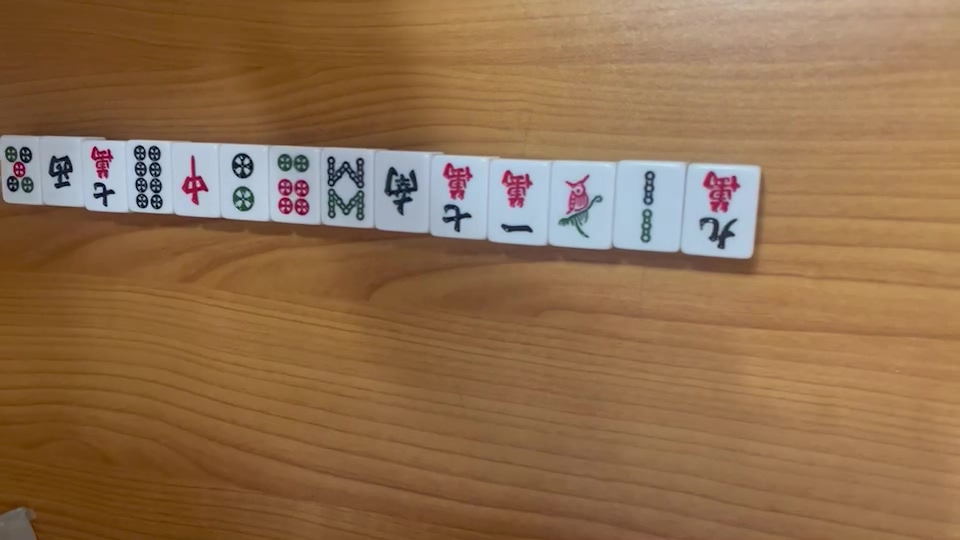b-1: (555, 171, 606, 242)
b-2: (627, 170, 669, 247)
b-8: (325, 153, 369, 223)
c-1: (493, 166, 535, 239)
c-7: (432, 160, 479, 231), (83, 145, 119, 208)
c-9: (693, 168, 746, 254)
d-2: (224, 152, 257, 216)
d-5: (2, 143, 35, 200)
d-6: (271, 151, 313, 218)
d-8: (130, 144, 167, 211)
honors-red: (176, 156, 212, 208)
honors-south: (380, 162, 423, 221)
honors-west: (43, 148, 76, 192)
